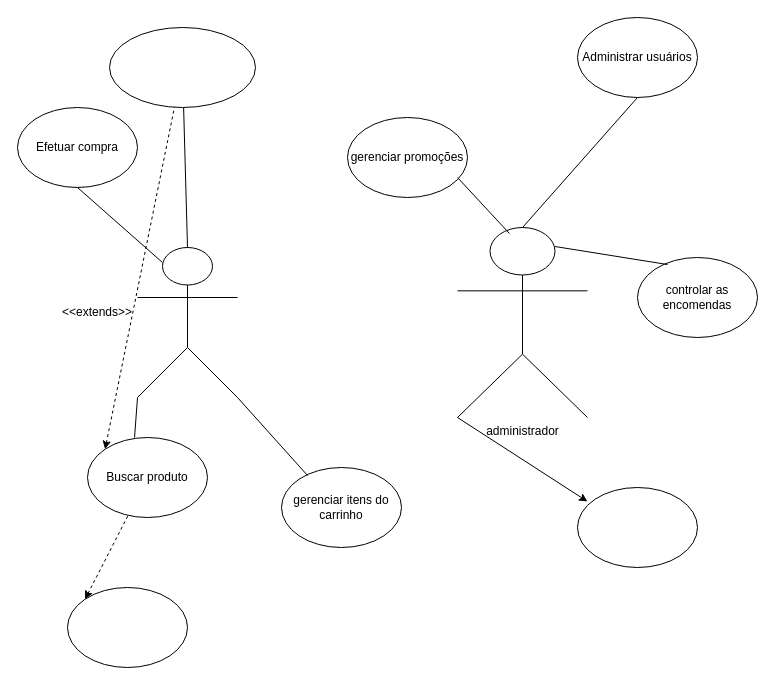
Some shapes in this 775 by 685 pixel diagram are drawn without their labels. The box of each missing label's shape, as (x1, y1, x2, y2) in pixels:
atualizar perfil do cliente: (66, 586, 188, 668)
Cliente: (136, 246, 238, 398)
Efetuar usuários: (108, 26, 256, 108)
gerenciar produtos: (576, 486, 698, 568)
